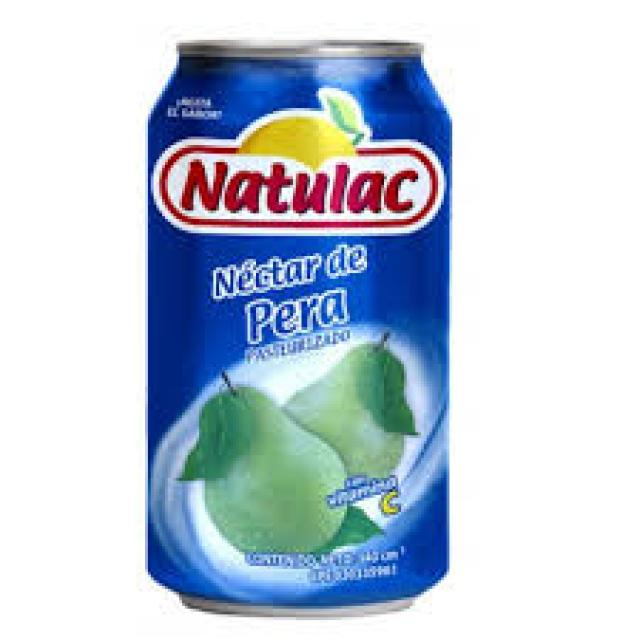Lata: (132, 31, 456, 624)
